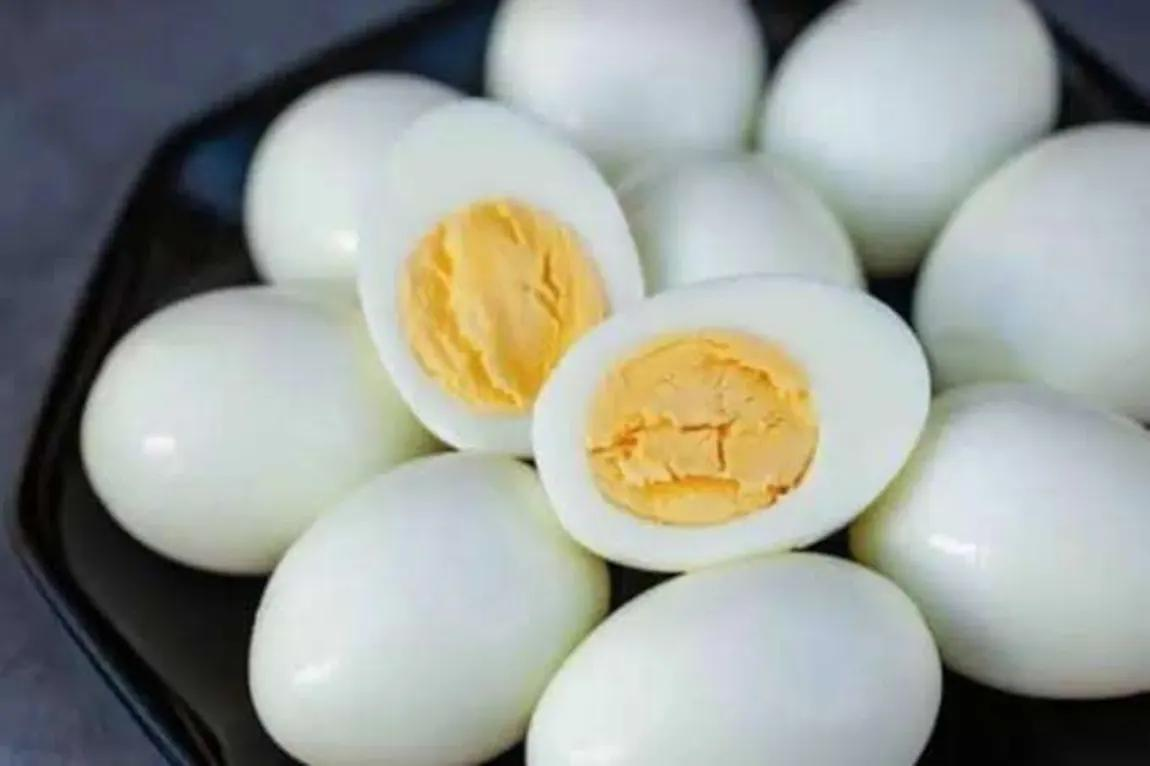telur: (580, 353, 859, 507), (306, 527, 527, 716), (944, 427, 1145, 633), (394, 147, 574, 348), (124, 335, 355, 488), (618, 625, 857, 762), (970, 199, 1148, 359), (832, 13, 1007, 160), (556, 27, 728, 123), (640, 175, 791, 263), (272, 111, 368, 205)
